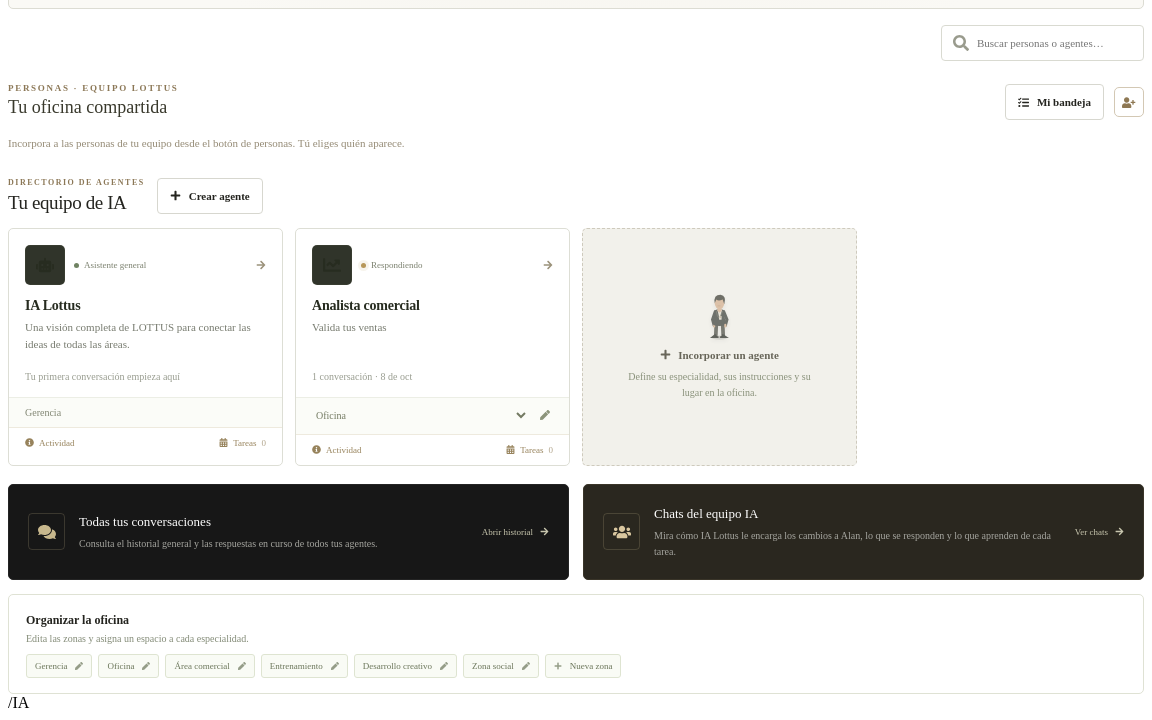
Test case: Oficina virtual LOTTUS › representa las seis áreas en el mismo espacio y ofrece actividad y programación por agente
(page scrolled)
Click the button with aria-label "Actividad de Analista comercial" at x=337, y=450, box [312,442,362,456]
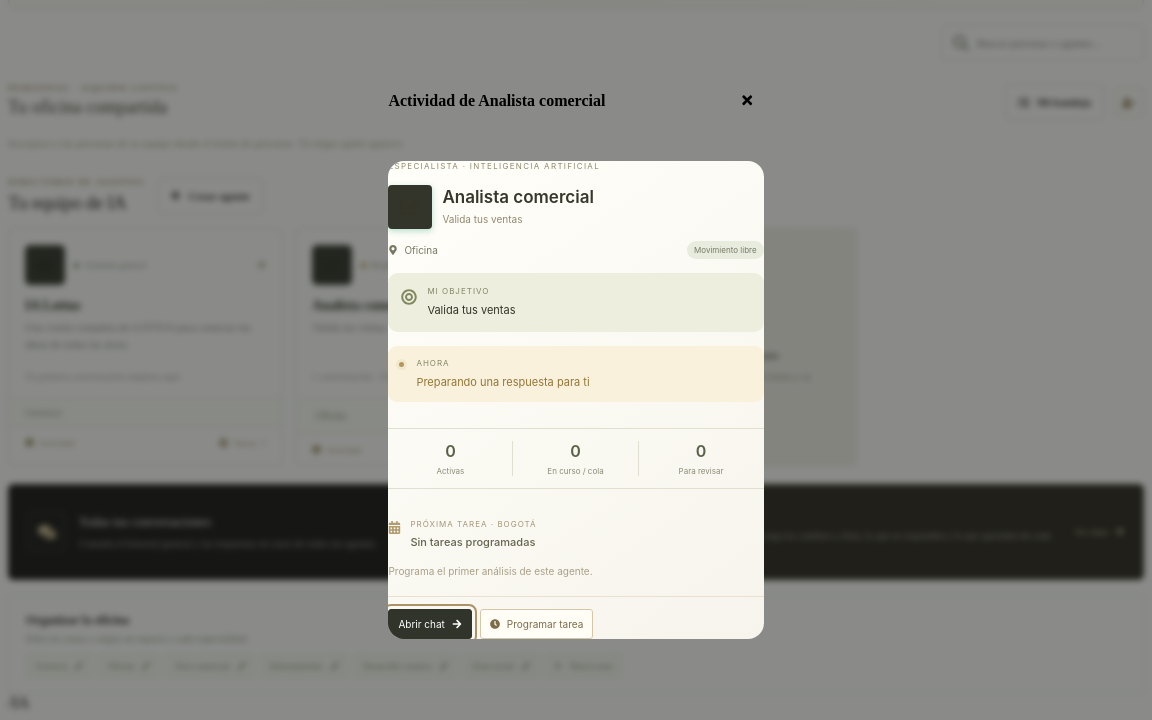
Check: the dialog shows "Sin tareas programadas", box [410,535,535,549]
Click the button "Programar tarea" at x=537, y=624, box [480,609,593,639]
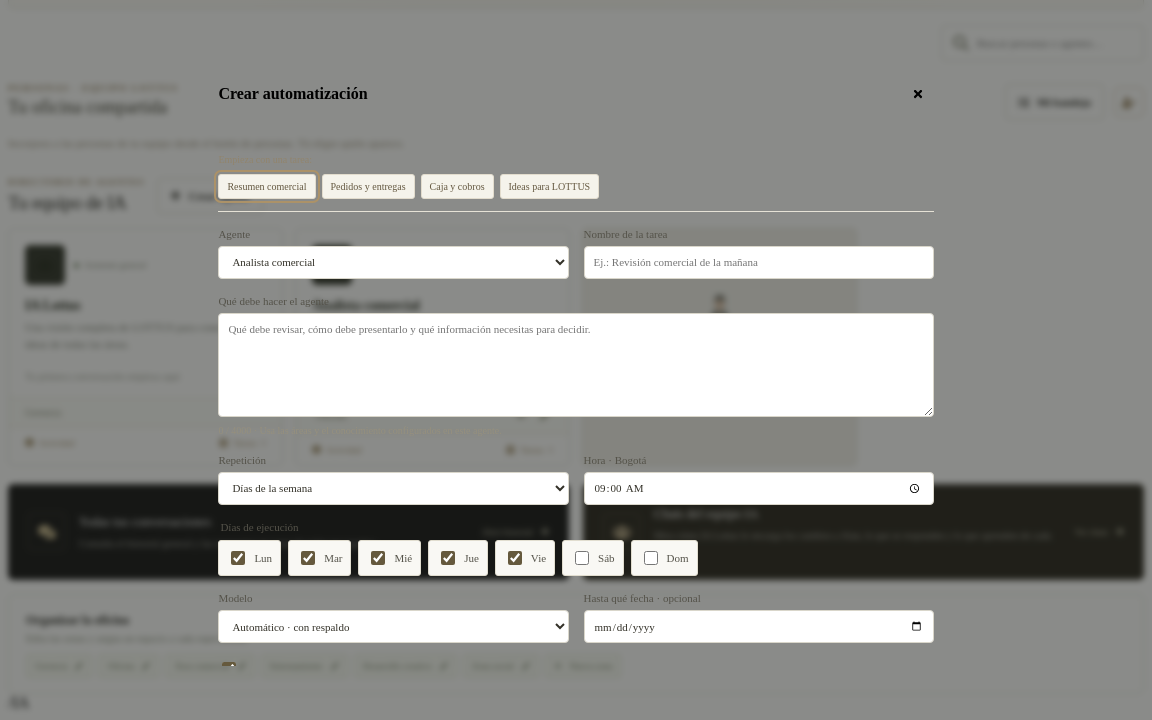
Check: the dialog "Crear automatización" is shown, box [196,54,956,666]
Check: the dropdown labelled "Agente" shows "Analista comercial", box [218,246,568,279]
